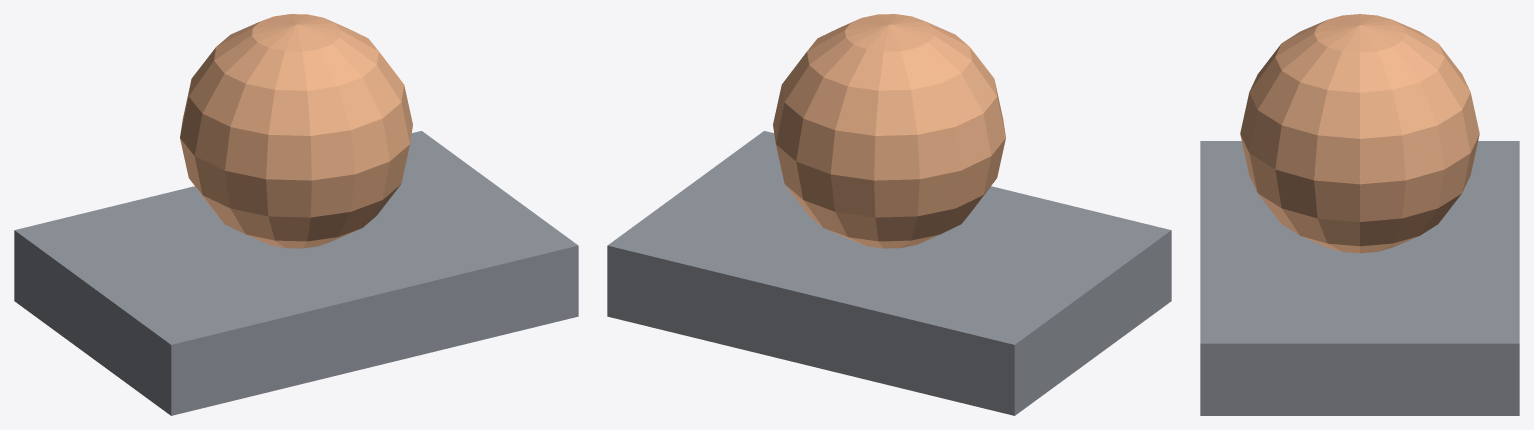
Rendered from s1-multi.glb.
3 views of the same model, side by side, from view 1: azimuth 30°, elevation 25°; view 2: azimuth 150°, elevation 25°; view 3: azimuth 270°, elevation 25° (orthographic).
Visible parts, largest first — view 1: Slab, Ball; view 2: Slab, Ball; view 3: Slab, Ball.
Part boxes in pixels (<box>): Slab: <box>14,131,578,415</box>; Ball: <box>180,14,412,248</box>; Slab: <box>607,131,1171,415</box>; Ball: <box>773,14,1005,248</box>; Slab: <box>1200,141,1519,415</box>; Ball: <box>1240,14,1479,253</box>.
Bounding box in the file's own units: 1.2 × 0.8 × 0.8.
